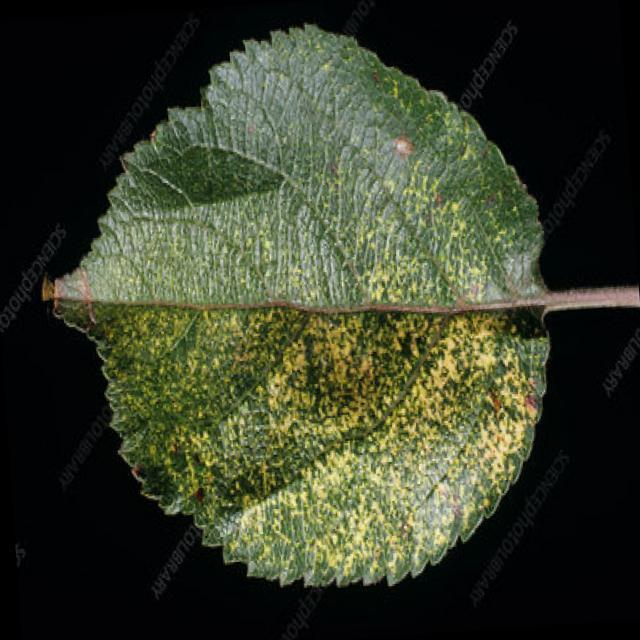Mosaic Virus: (47, 40, 570, 594)
